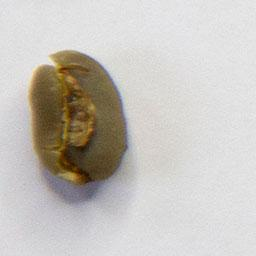peaberry: (25, 46, 135, 189)
